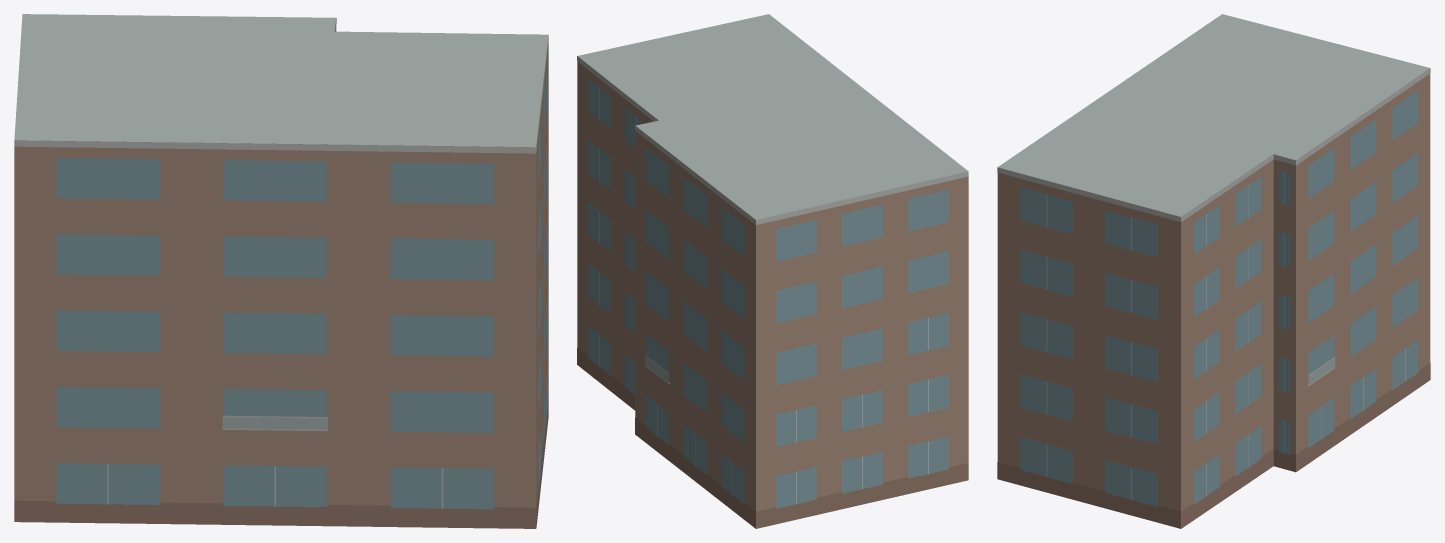
Rendered from survey-upis-33021504.glb.
3 views of the same model, side by side, from view 1: azimuth 30°, elevation 25°; view 2: azimuth 150°, elevation 25°; view 3: azimuth 270°, elevation 25° (orthographic). The views are drawn at different scales.
Parts seen in each view (by area): view 1: survey-upis-33021504.tmp; view 2: survey-upis-33021504.tmp; view 3: survey-upis-33021504.tmp.
Boxes of the visible parts, bbox=[...] form: survey-upis-33021504.tmp: bbox=[14, 14, 548, 528]; survey-upis-33021504.tmp: bbox=[577, 14, 968, 528]; survey-upis-33021504.tmp: bbox=[997, 14, 1430, 528].
Size of the model in its own units: 20.38 by 14.6 by 18.38.
